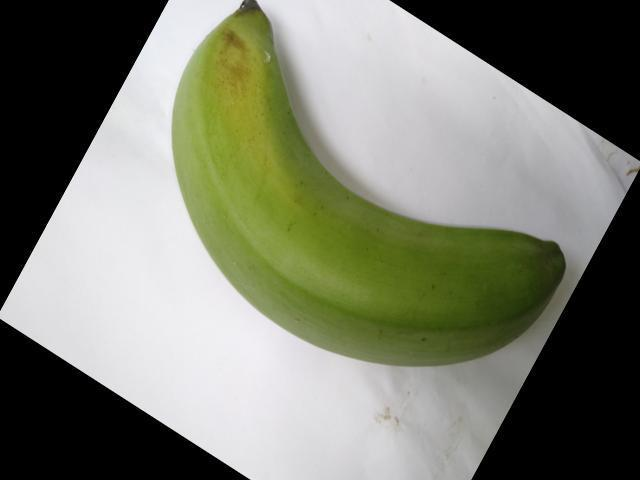freshunripe: (159, 0, 580, 374)
